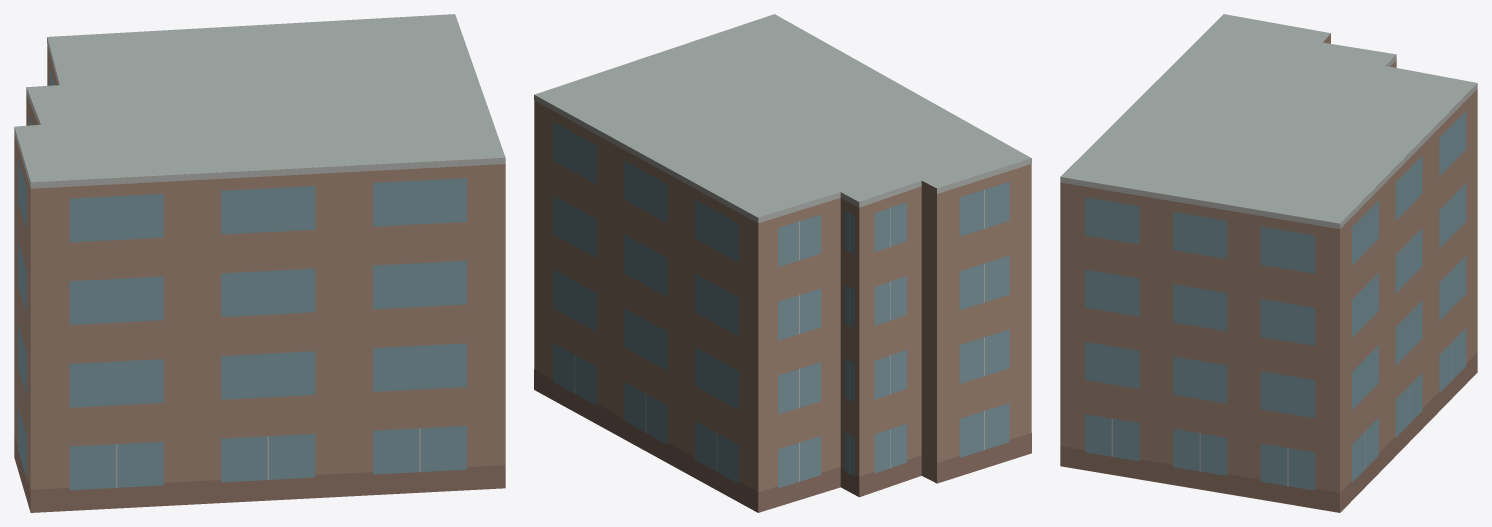
Rendered from survey-upis-32586680.glb.
3 views of the same model, side by side, from view 1: azimuth 30°, elevation 25°; view 2: azimuth 150°, elevation 25°; view 3: azimuth 270°, elevation 25° (orthographic). The views are drawn at different scales.
Parts seen in each view (by area): view 1: survey-upis-32586680.tmp; view 2: survey-upis-32586680.tmp; view 3: survey-upis-32586680.tmp.
Part boxes in pixels (left/top/right/bottom): survey-upis-32586680.tmp: left=14, top=14, right=505, bottom=512; survey-upis-32586680.tmp: left=534, top=14, right=1031, bottom=512; survey-upis-32586680.tmp: left=1060, top=14, right=1477, bottom=512.
Size of the model in its own units: 19.91 by 12.8 by 16.75.
